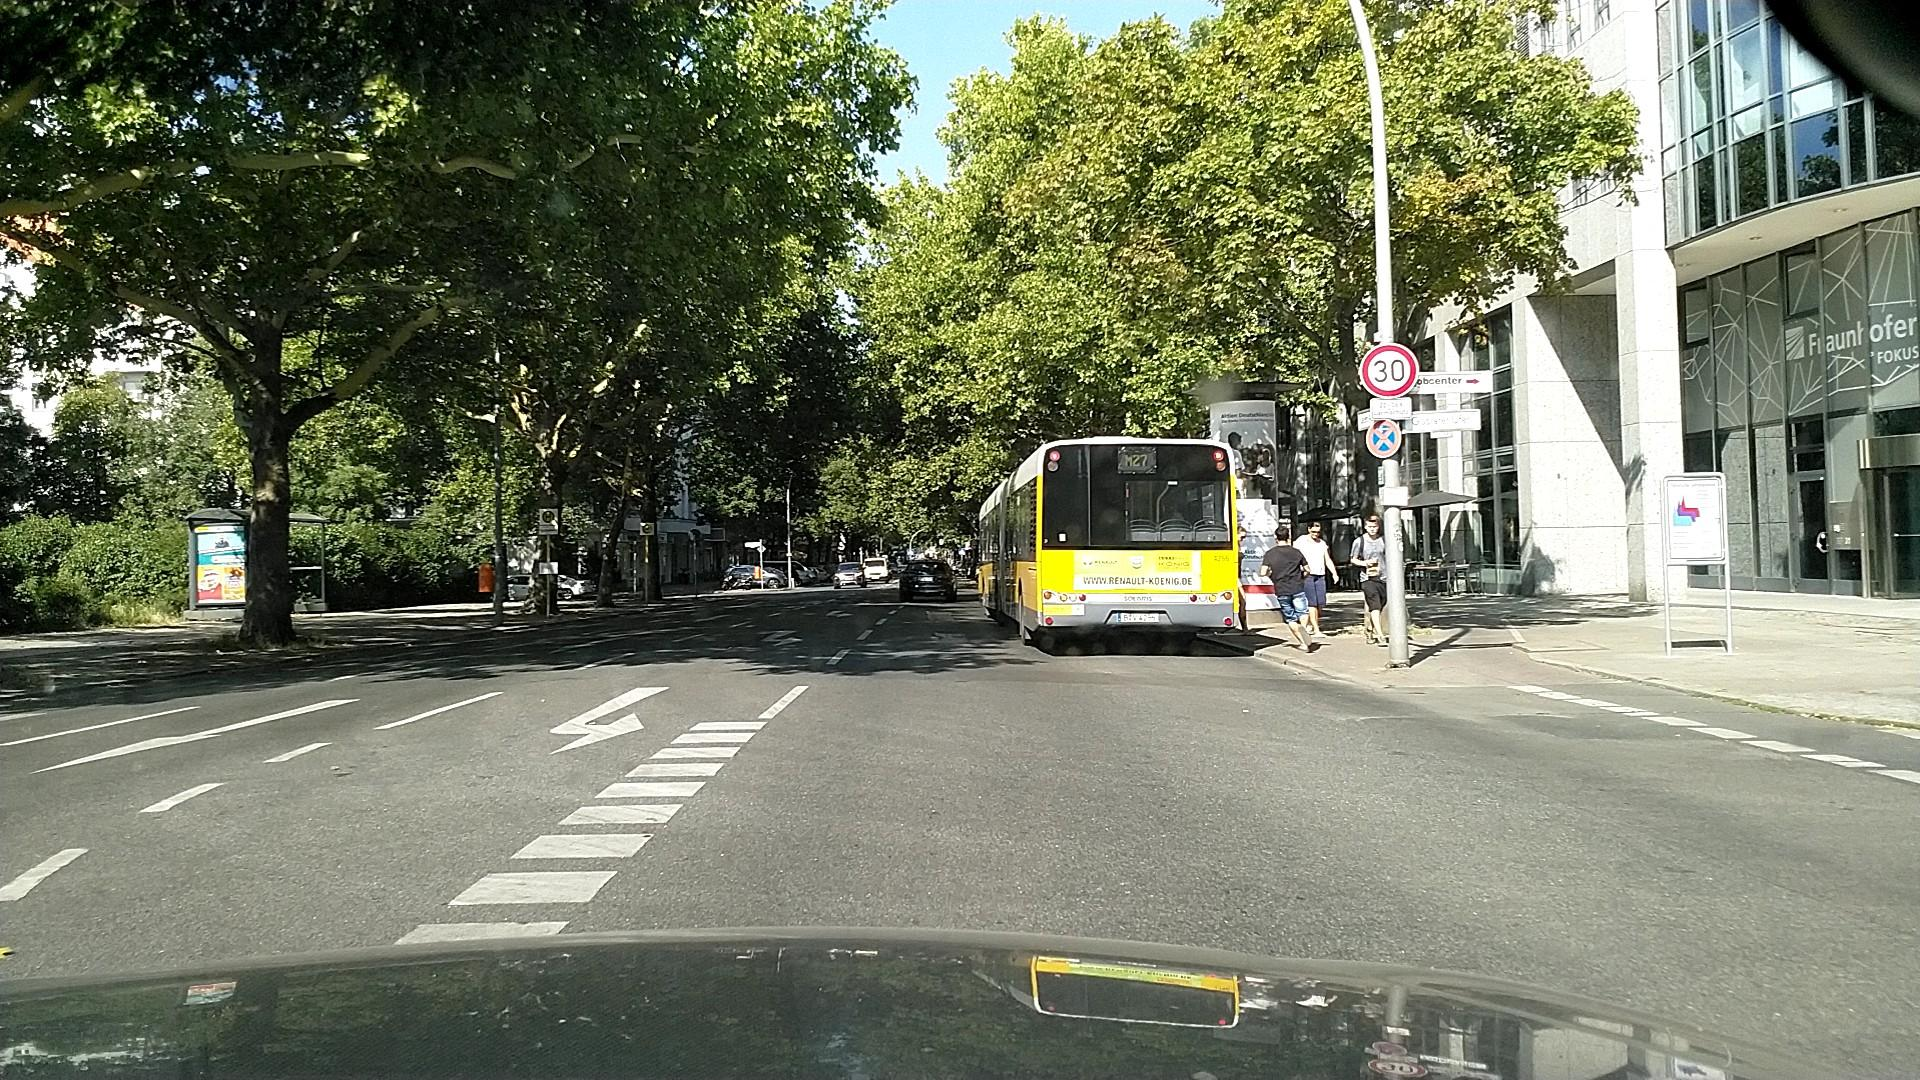Human face: (1363, 519, 1380, 538), (1307, 523, 1322, 541), (1236, 526, 1248, 545)
Vehicle registration plate: (1116, 611, 1160, 623)
